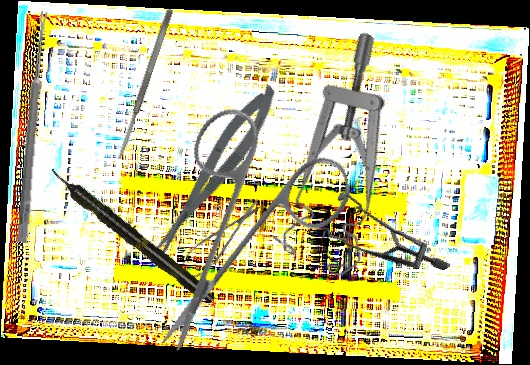Handpiece: (45, 163, 219, 308)
Iris Scissors: (109, 84, 379, 354)
Micro Scissor: (136, 78, 288, 269), (169, 191, 271, 291)
Spatula Surgical: (114, 7, 175, 162)
Speculum: (234, 30, 469, 289), (306, 163, 452, 317)
Surgical Spoon: (16, 10, 50, 244)
